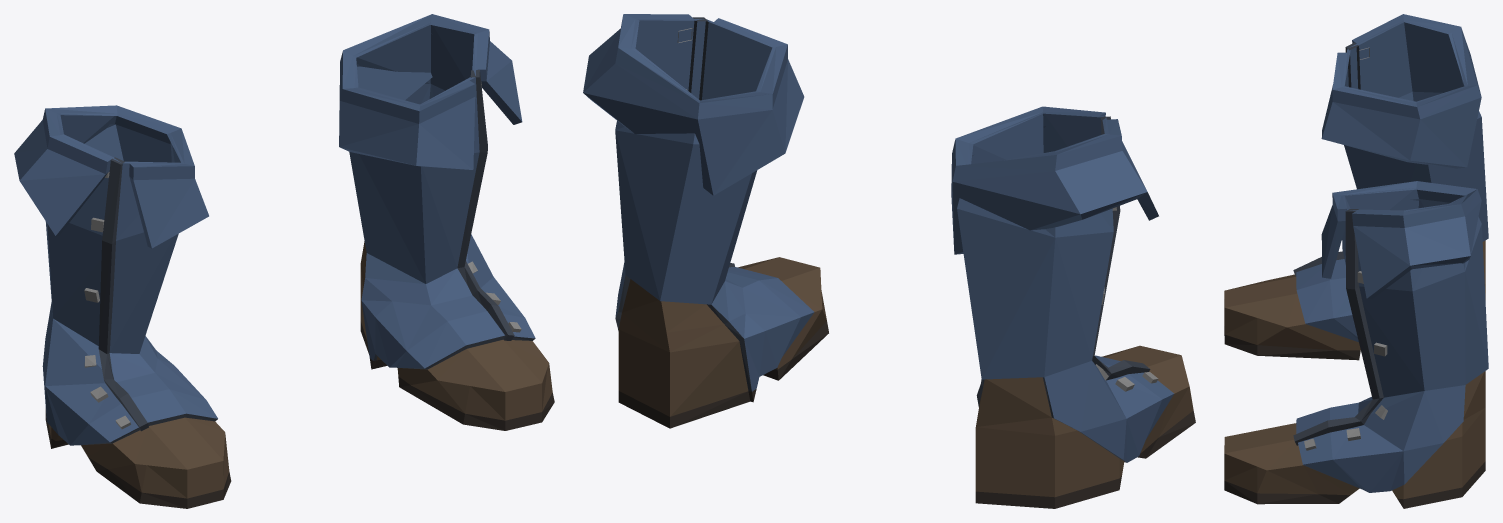
File: LegendaryRogueNobleBoots.dae
3 views of the same model, side by side, from view 1: azimuth 30°, elevation 25°; view 2: azimuth 150°, elevation 25°; view 3: azimuth 270°, elevation 25° (orthographic). The views are drawn at different scales.
Parts seen in each view (by area): view 1: Boots; view 2: Boots; view 3: Boots.
Boxes of the visible parts, box(x1,y1,x2,y2) form: Boots: box(14, 14, 554, 508); Boots: box(583, 14, 1195, 508); Boots: box(1224, 14, 1488, 508).
Size of the model in its own units: 2.96 by 1.46 by 1.8.
